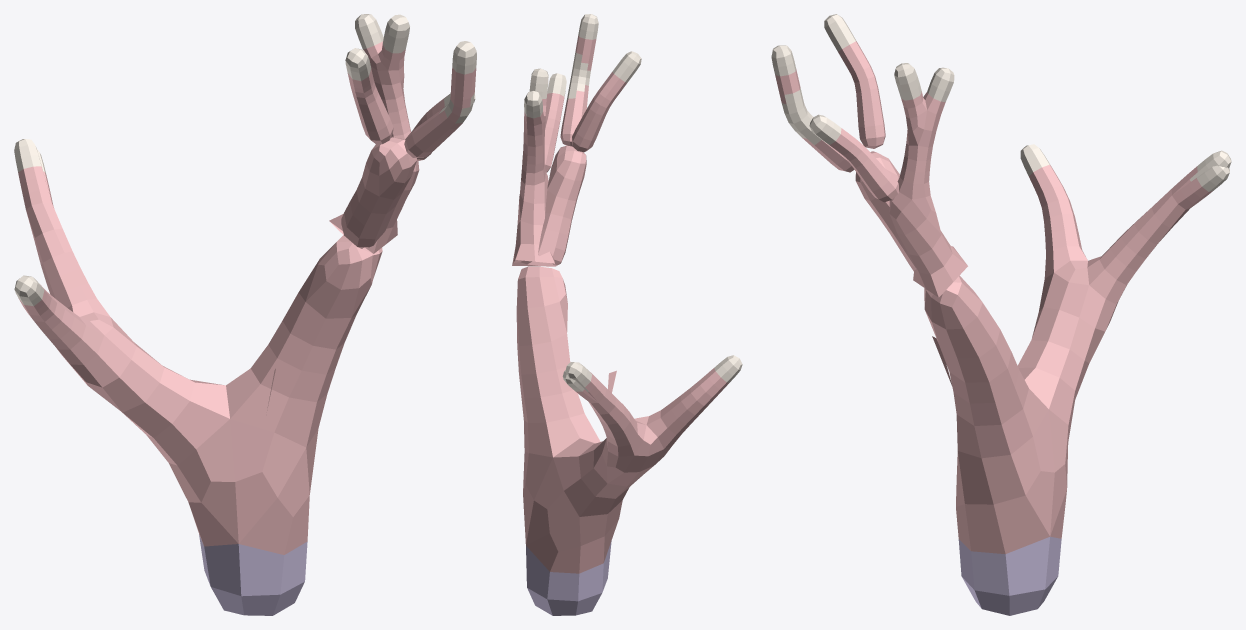
File: coral_bare_0.glb
3 renders of one model, left to right at view 1: azimuth 30°, elevation 25°; view 2: azimuth 150°, elevation 25°; view 3: azimuth 270°, elevation 25°, orthographic. The views are drawn at different scales.
Visible parts, largest first — view 1: coral_bare_0; view 2: coral_bare_0; view 3: coral_bare_0.
Part boxes in pixels (left/top/right/bottom): coral_bare_0: left=14, top=14, right=476, bottom=615; coral_bare_0: left=512, top=14, right=742, bottom=615; coral_bare_0: left=771, top=14, right=1231, bottom=615.
Size of the model in its own units: 1.73 by 3.01 by 2.07.
